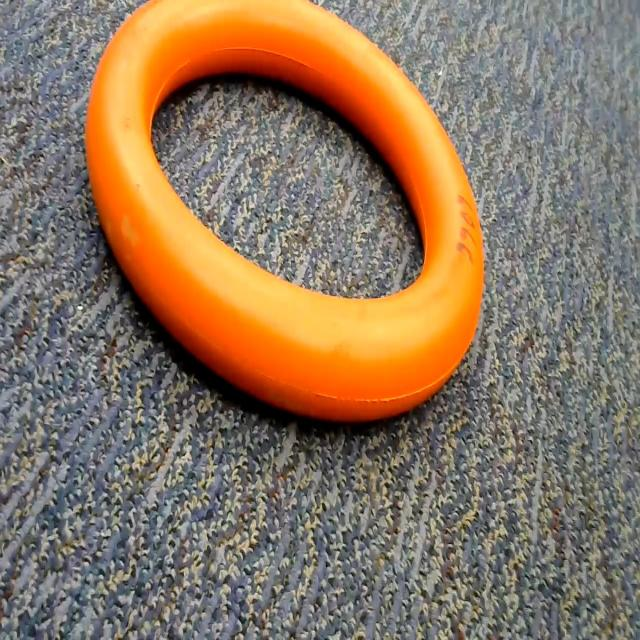note: (75, 0, 497, 448)
